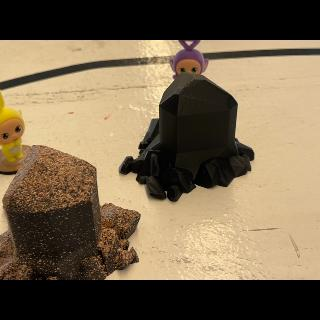teletubby: (0, 91, 25, 163), (170, 40, 208, 79)
